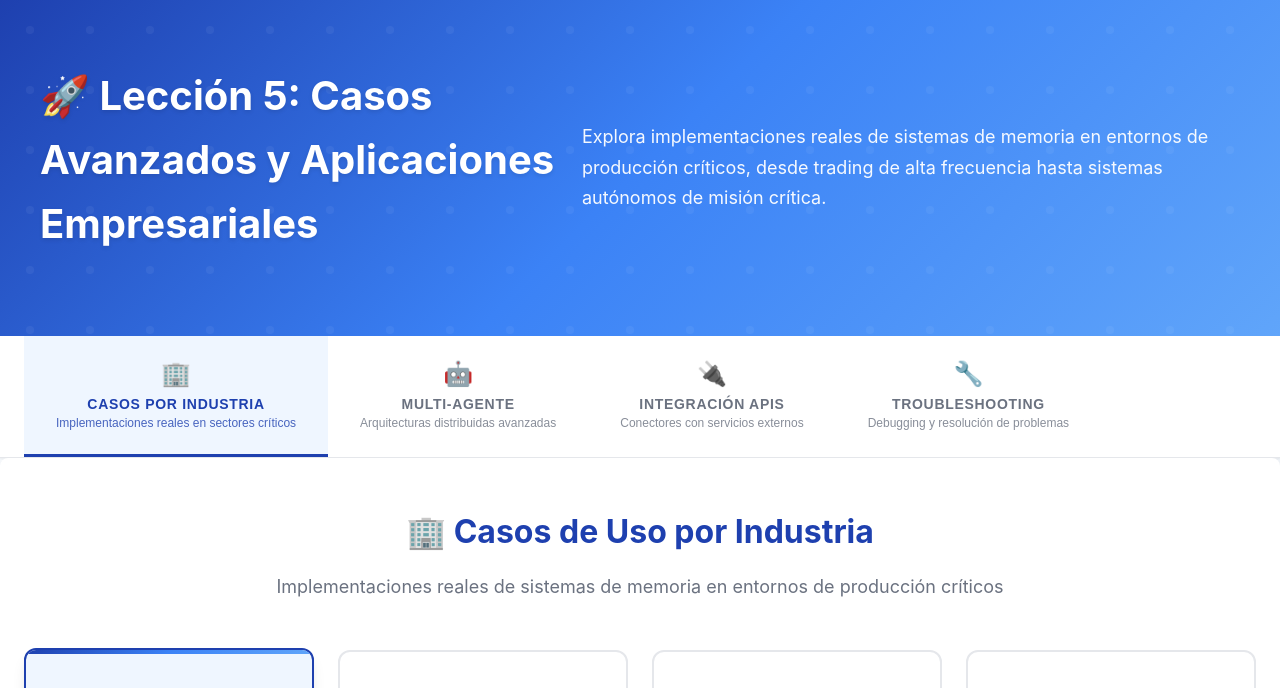
Test: Lesson05AdvancedCases › Accessibility Tests › screen reader announcements work
# Check for proper live regions
Click the tab "🔧 Troubleshooting Debugging y resolución de problemas" at (968, 396), box [836,336,1101,457]
(page scrolled)
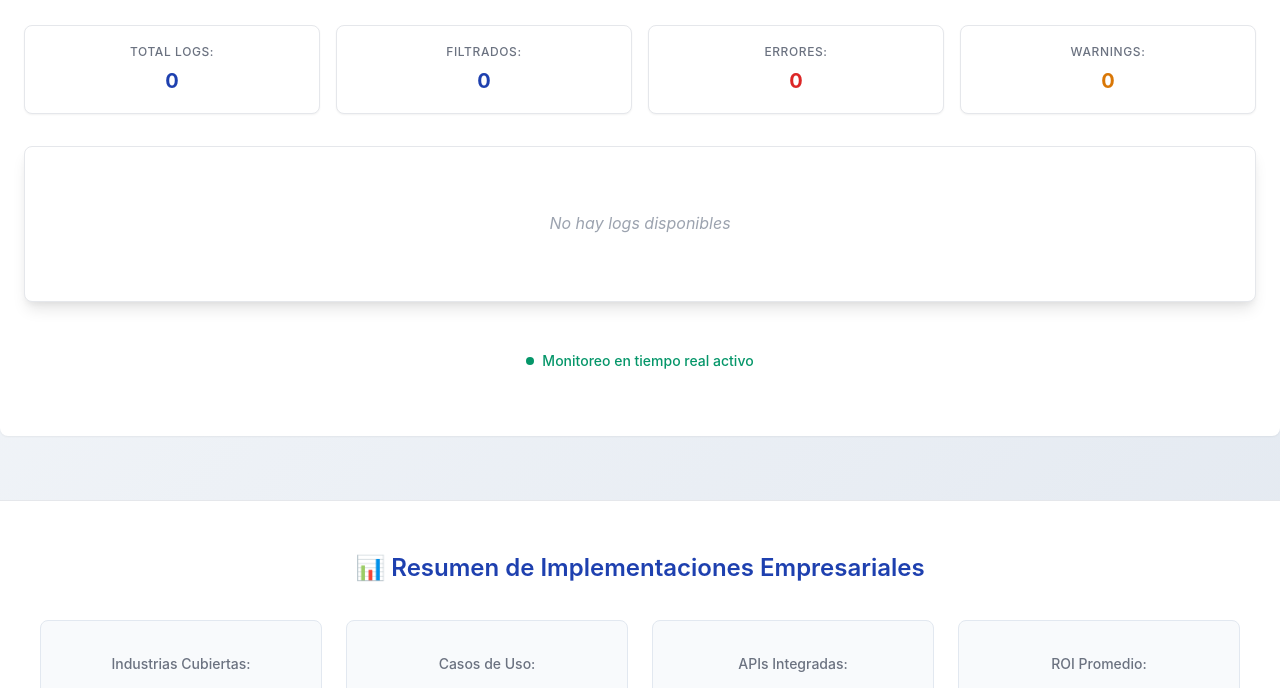
Expected: the text "Monitoreo en tiempo real activo" is shown, [542,350,754,372]
